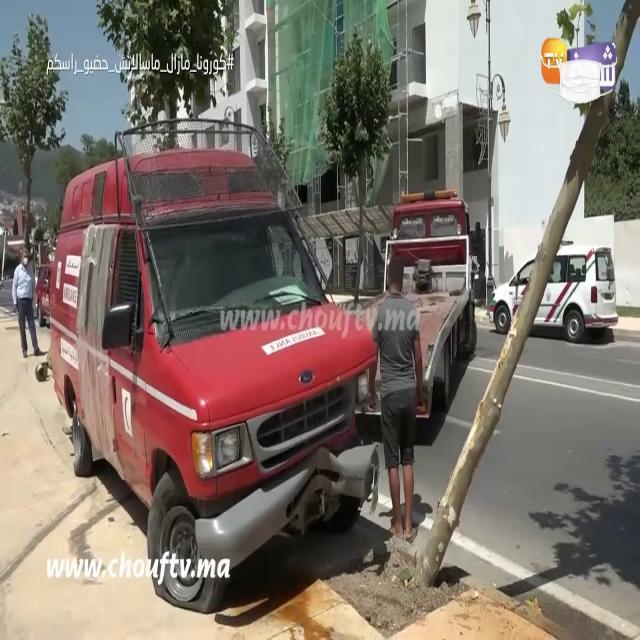ambulance: (52, 118, 384, 618)
